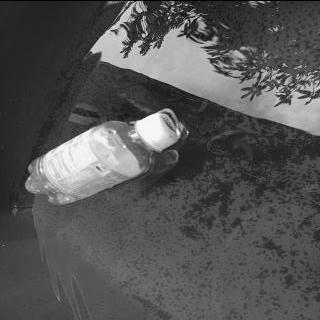bottle: (21, 108, 182, 206)
